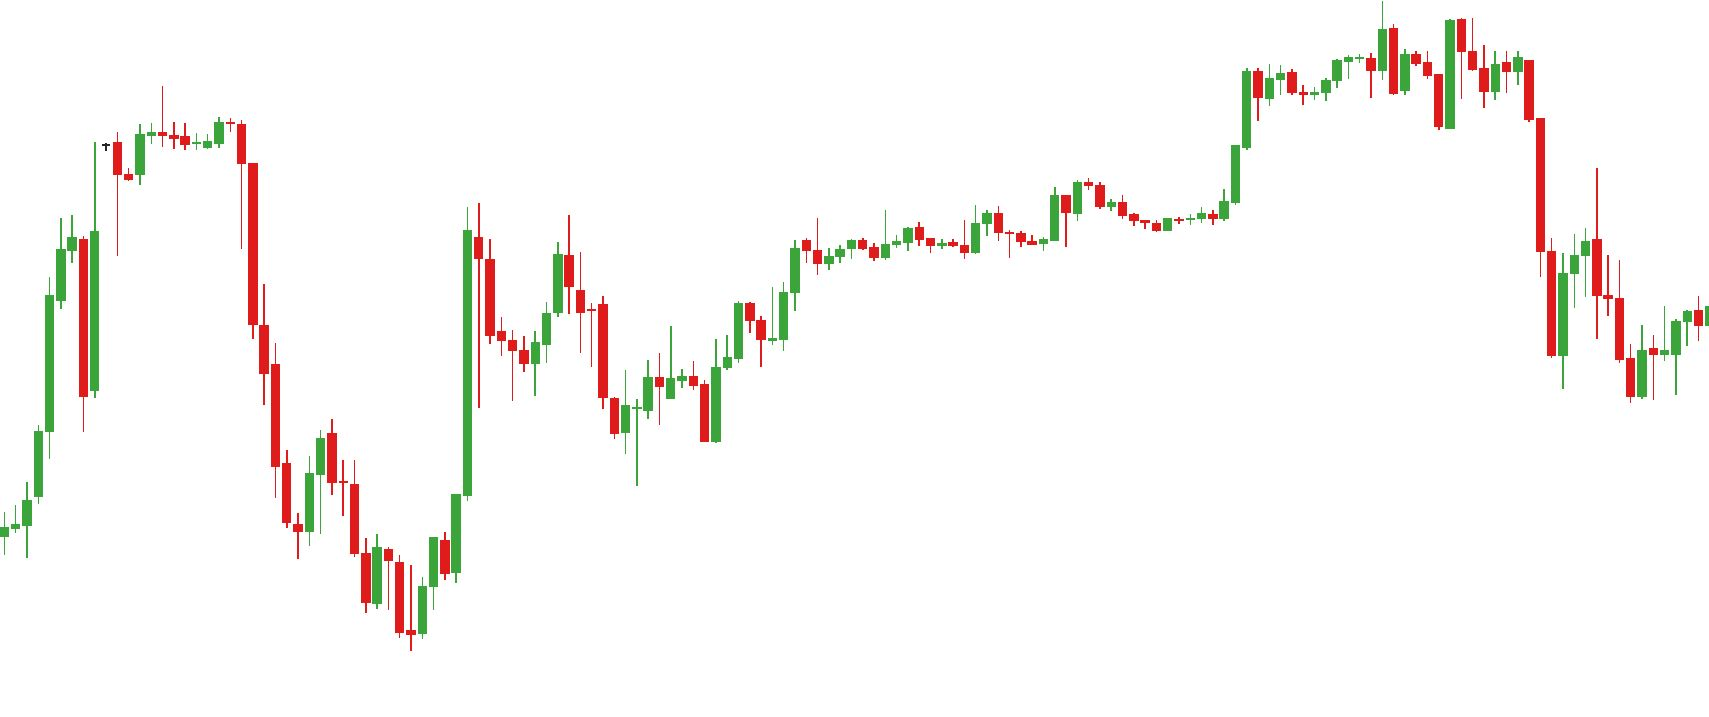buy: (507, 326, 654, 497)
